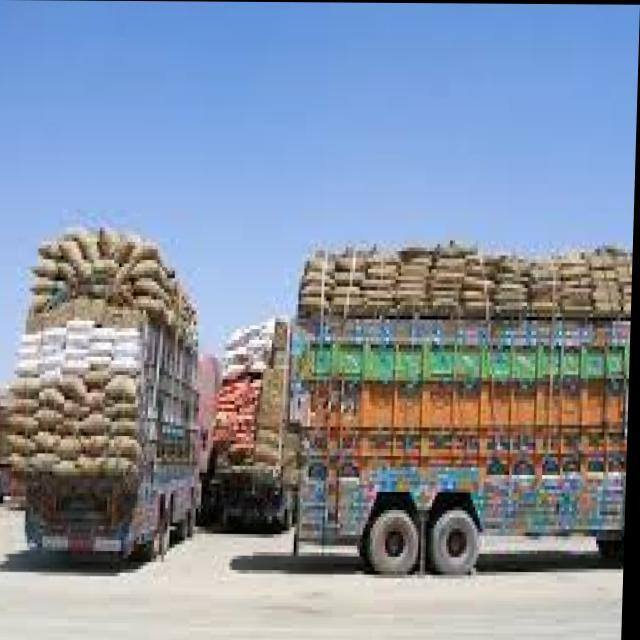uncovered: (296, 243, 634, 576), (14, 223, 209, 560), (217, 316, 306, 530)
